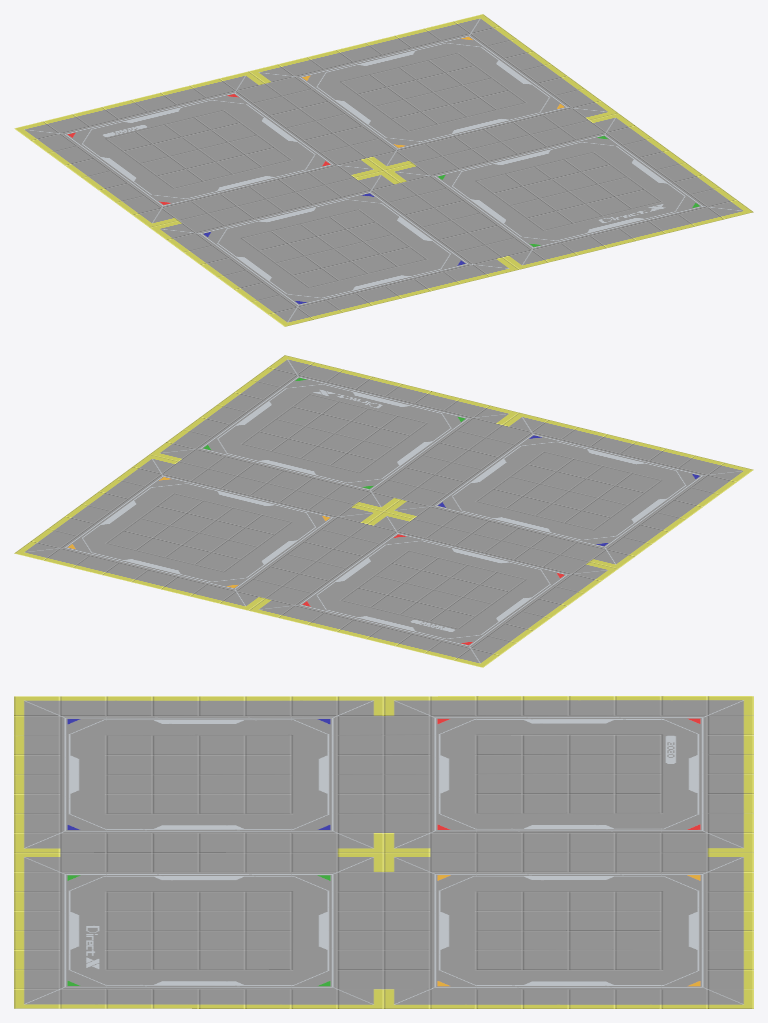
The model's file is land.fbx.
The picture shows the model from 3 angles, top to bottom: view 1: azimuth 30°, elevation 25°; view 2: azimuth 150°, elevation 25°; view 3: azimuth 270°, elevation 25°; orthographic projection. The views are drawn at different scales.
Parts seen in each view (by area): view 1: obj1; view 2: obj1; view 3: obj1.
Boxes of the visible parts, x1,y1,x2,y2 form: obj1: (14, 14, 753, 326); obj1: (14, 355, 753, 667); obj1: (14, 696, 753, 1008).
Size of the model in its own units: 4000 by 3.31 by 4000.
1 material, 1 textured.
